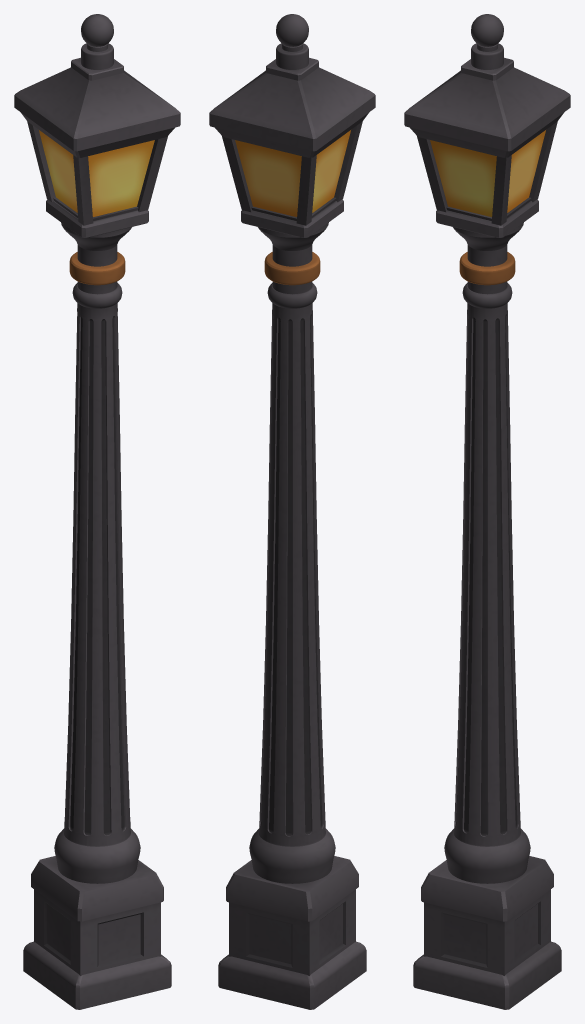
The model's file is houdini_lantern_post.glb.
3 renders of one model, left to right at view 1: azimuth 30°, elevation 25°; view 2: azimuth 150°, elevation 25°; view 3: azimuth 330°, elevation 25°, orthographic.
Parts seen in each view (by area): view 1: LOD0; view 2: LOD0; view 3: LOD0.
Part boxes in pixels (x1=…): LOD0: x1=14, y1=14, x2=180, y2=1009; LOD0: x1=209, y1=14, x2=375, y2=1009; LOD0: x1=404, y1=14, x2=570, y2=1009.
Size of what is drawn, in the model's own units: 0.522 by 4.49 by 0.522.
Materials: 1 (1 with a texture image).
